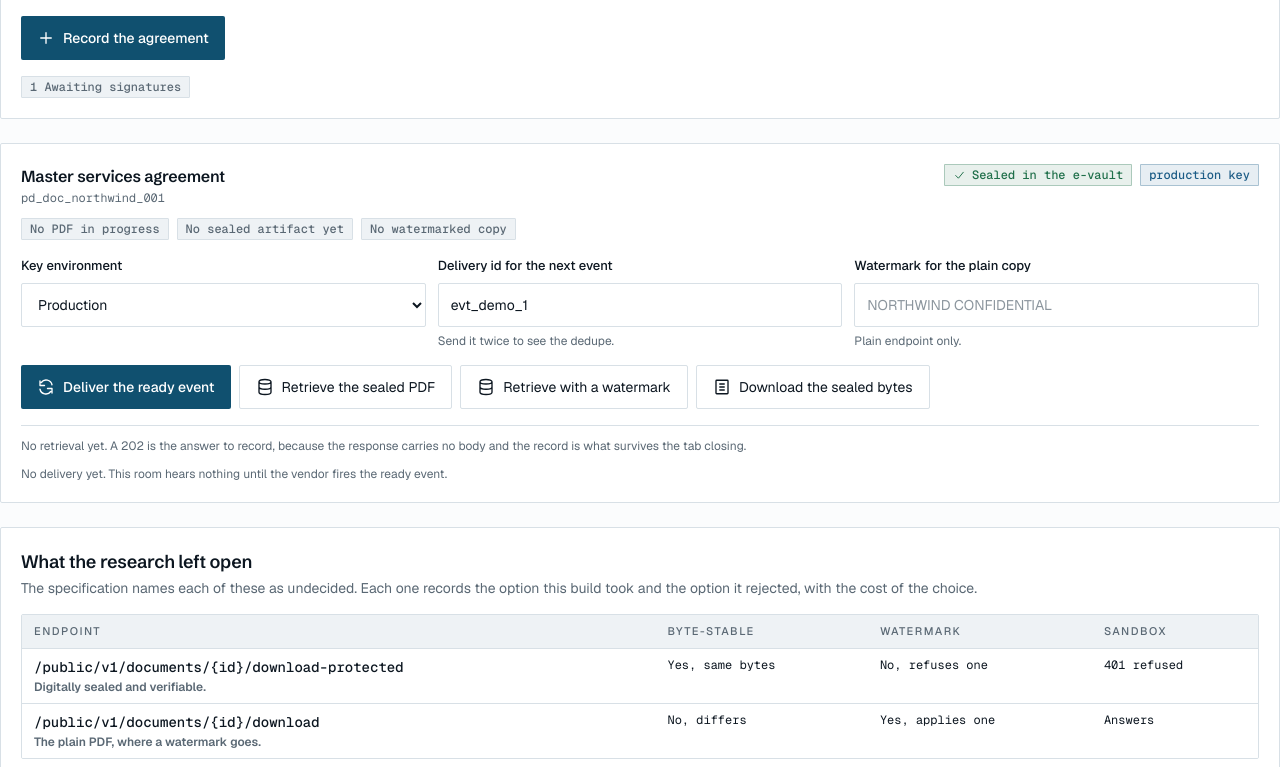
Test: the refusals › says a 429 is a wait and not a generic failure
(page scrolled)
Click the button "Retrieve the sealed PDF": {"x": 346, "y": 386} [239,364,452,408]
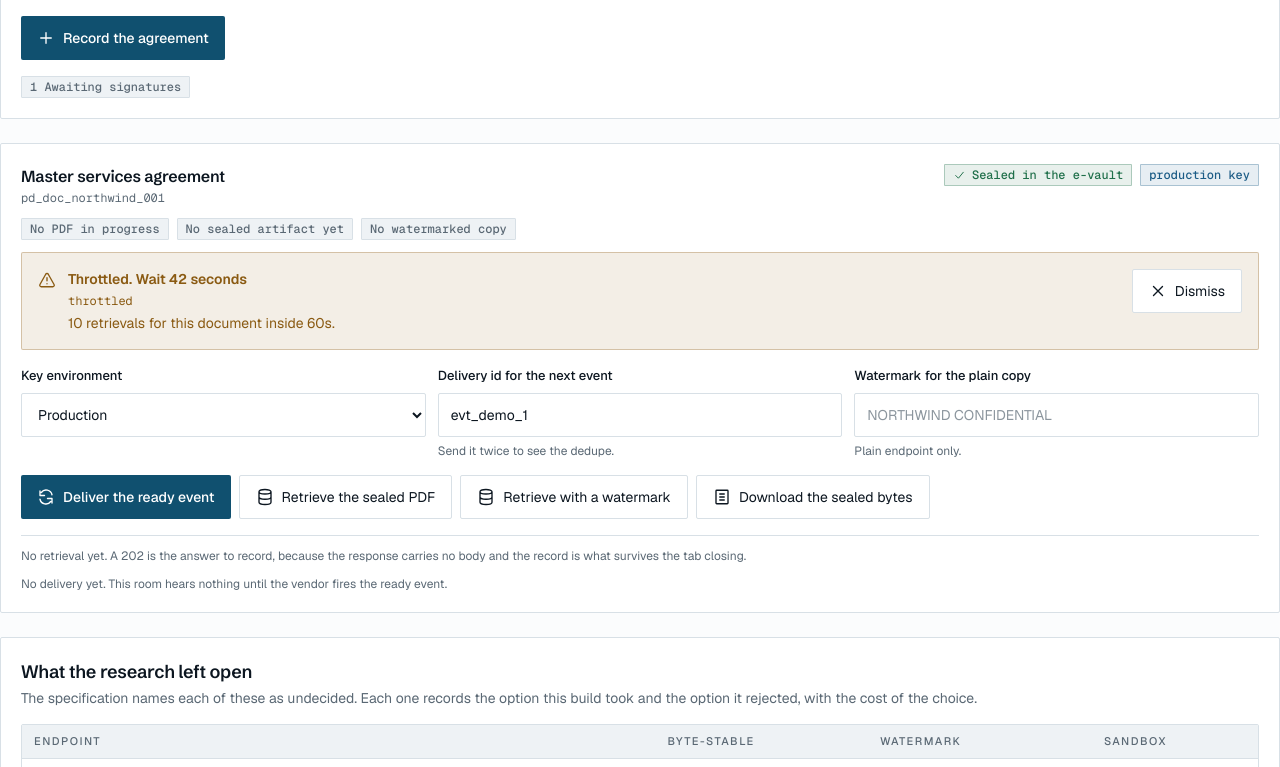
Check: the text "Throttled. Wait 42 seconds" is shown, box [68,270,247,288]
